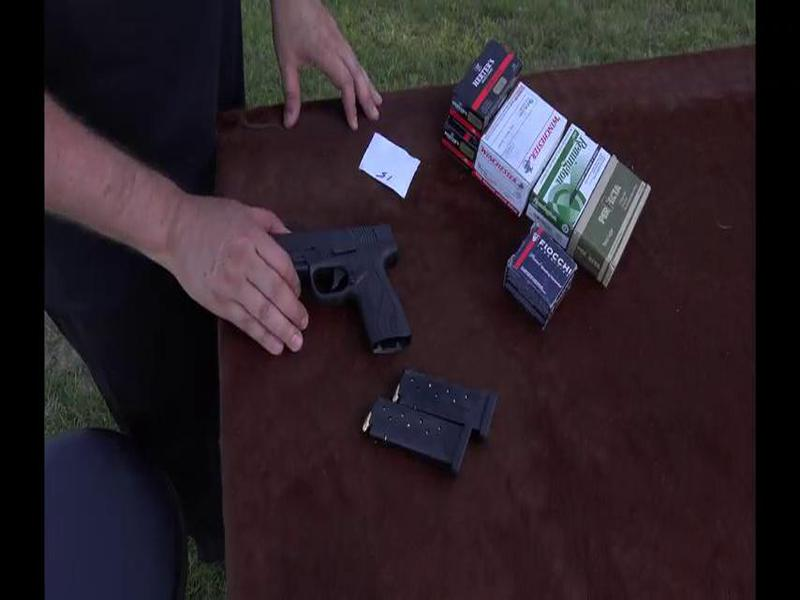Pistola: (239, 207, 431, 364)
